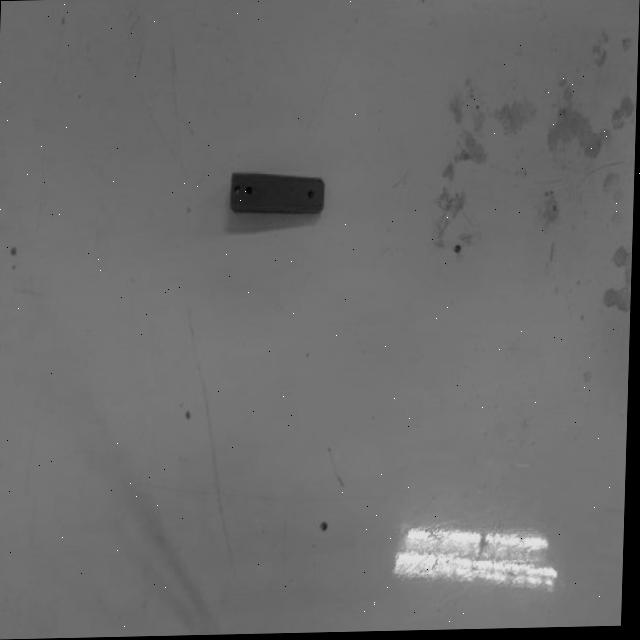grey: (226, 165, 323, 220)
head: (304, 183, 315, 202)
